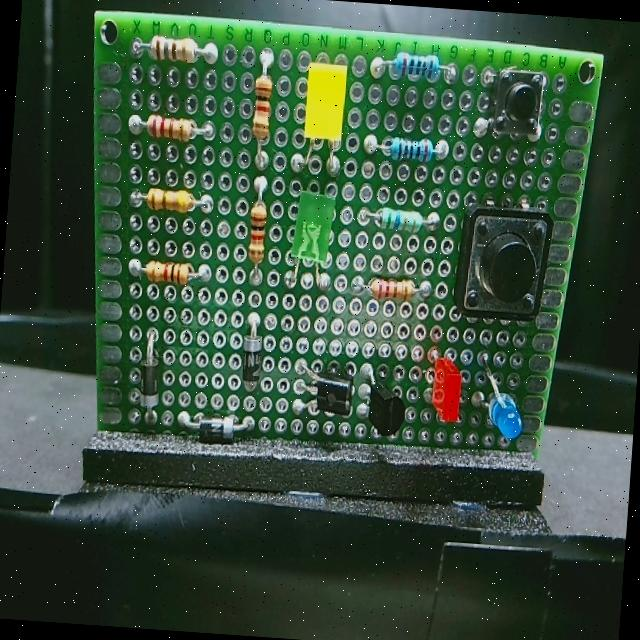diode: (128, 328, 170, 427), (232, 312, 276, 403), (175, 407, 260, 454)
led: (292, 48, 353, 178), (464, 342, 536, 449), (282, 184, 345, 294), (418, 338, 464, 433)
resistor: (359, 41, 463, 95), (242, 34, 282, 170), (122, 104, 220, 154), (127, 26, 220, 78), (355, 124, 454, 172), (358, 188, 444, 242), (238, 169, 278, 285), (126, 247, 219, 295), (350, 264, 440, 312), (126, 180, 216, 224)
switch: (448, 196, 554, 334), (469, 59, 551, 150)
transistor: (290, 353, 360, 428), (352, 358, 410, 448)
